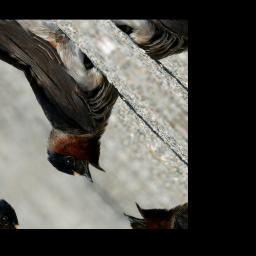Swallow: (0, 33, 160, 196)
